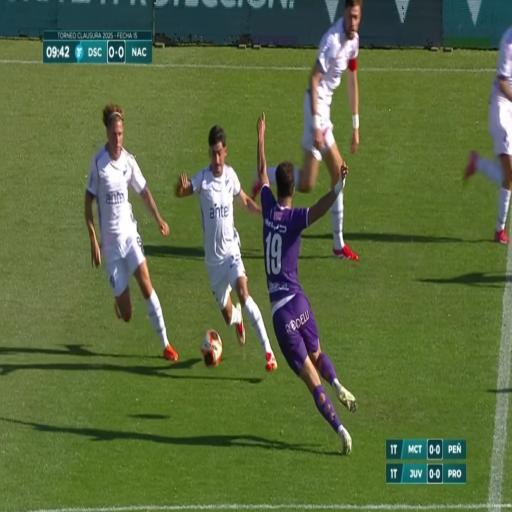Ball: (199, 324, 222, 372)
Player: (259, 150, 335, 426), (90, 102, 152, 343), (198, 104, 250, 364), (304, 0, 358, 243)
